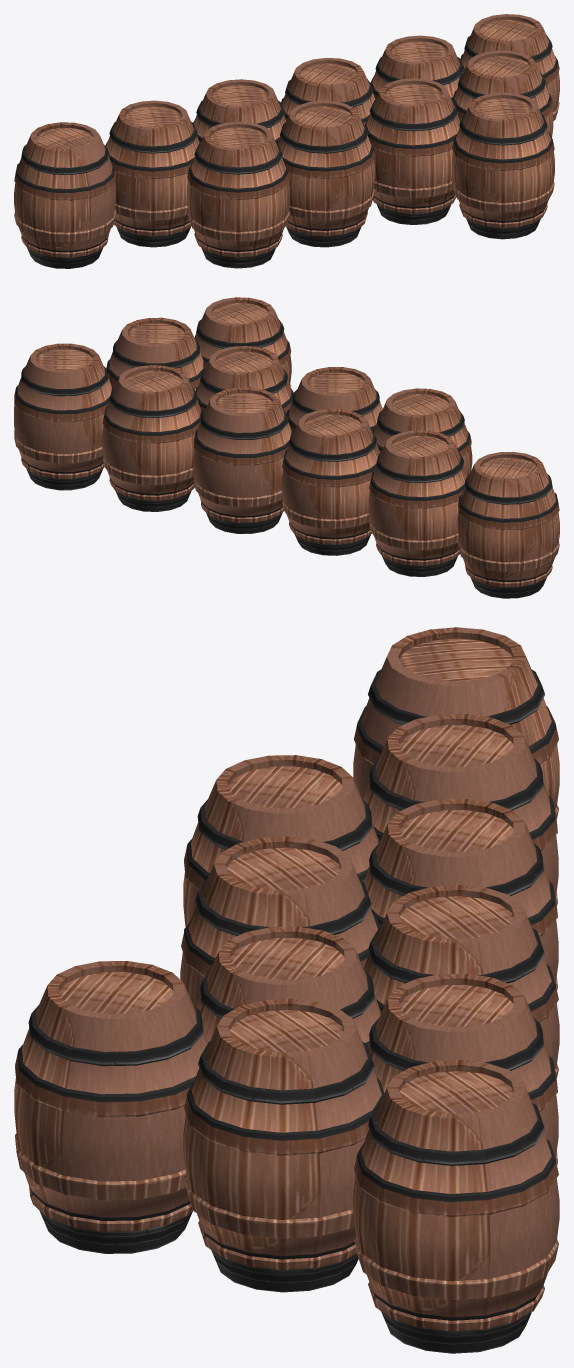
Rendered from barrels.glb.
3 renders of one model, top to bottom at view 1: azimuth 30°, elevation 25°; view 2: azimuth 150°, elevation 25°; view 3: azimuth 270°, elevation 25°, orthographic. The views are drawn at different scales.
Parts seen in each view (by area): view 1: Barrels; view 2: Barrels; view 3: Barrels.
Part boxes in pixels (bbox=[...]): Barrels: bbox=[14, 14, 559, 268]; Barrels: bbox=[14, 297, 559, 598]; Barrels: bbox=[14, 627, 559, 1353].
Bounding box in the file's own units: 4.57 × 1.02 × 2.03.
1 material, 1 textured.
